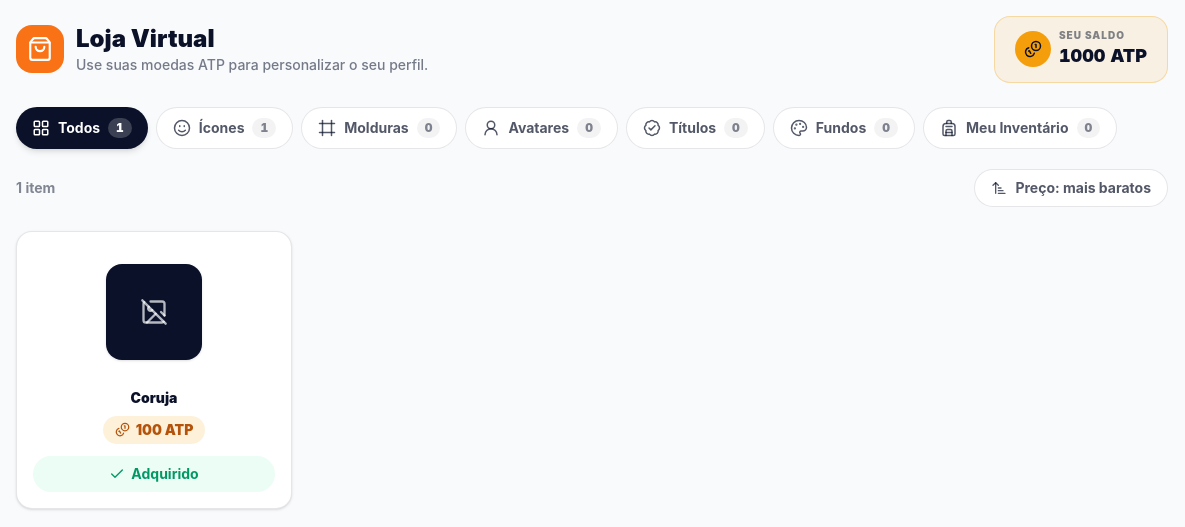
LojaPage › exibe item já adquirido e categoria sem itens
Expected: the text "Adquirido" is shown, 33,456 -> 275,492
Click the button "Molduras 0": (379, 128) 301,106 -> 457,148
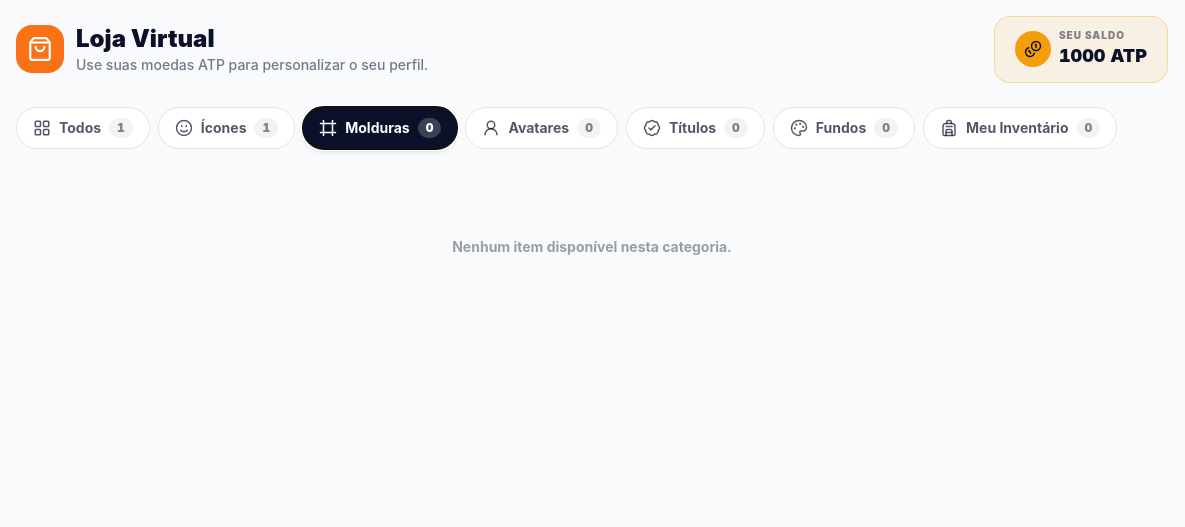
Now the text "Nenhum item disponível nesta categoria." is shown, box 452,238 -> 732,254
